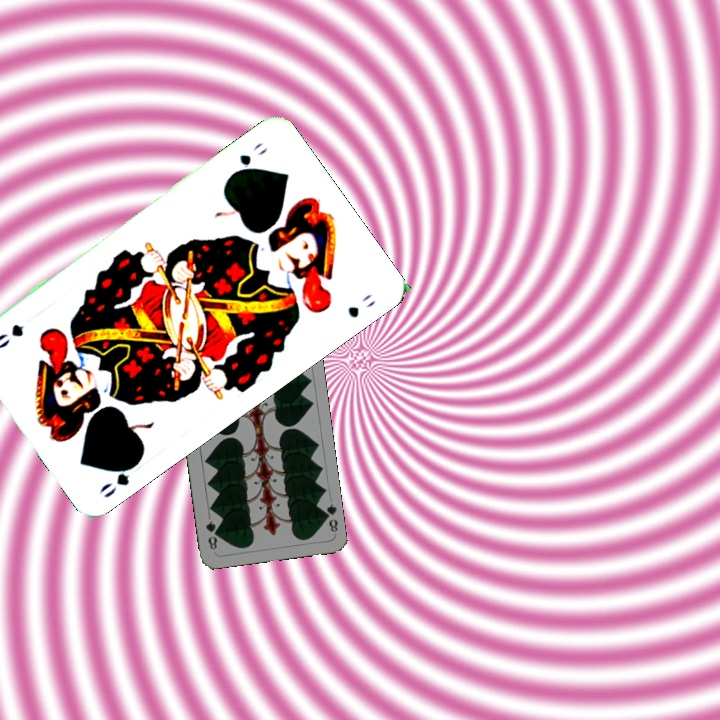G8: (318, 500, 340, 536)
GO: (95, 455, 144, 501), (226, 138, 270, 180)
